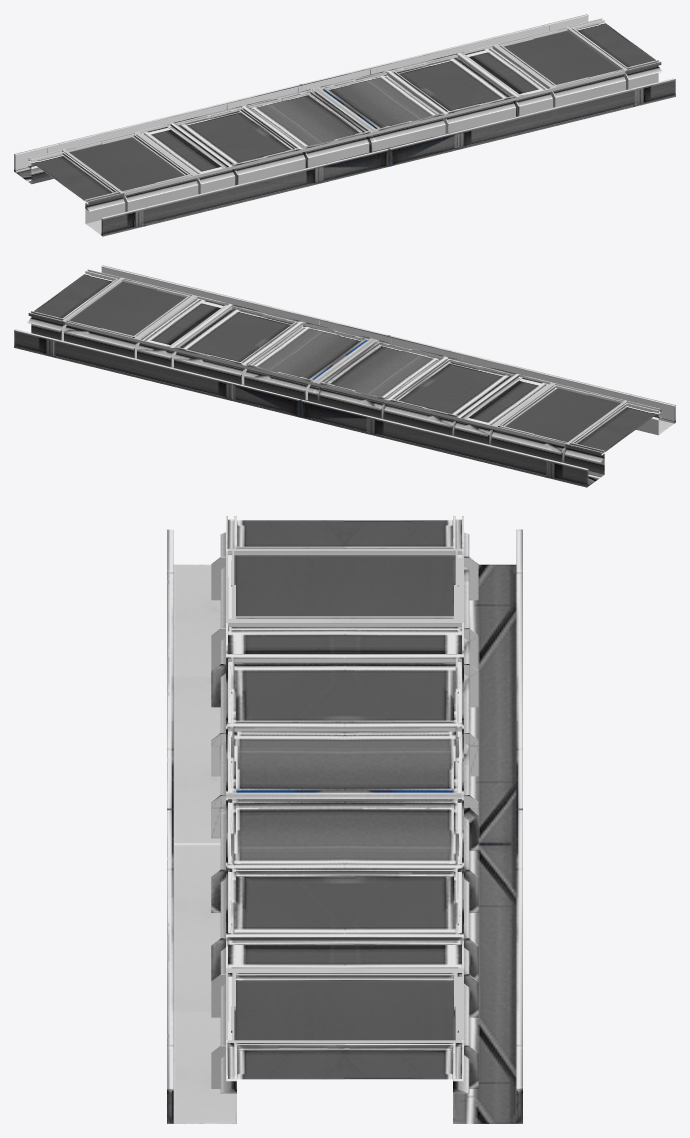
The model's file is set7GTop.obj.
3 views of the same model, one above another, from view 1: azimuth 30°, elevation 25°; view 2: azimuth 150°, elevation 25°; view 3: azimuth 270°, elevation 25° (orthographic). The views are drawn at different scales.
Visible parts, largest first — view 1: Set7Gtop; view 2: Set7Gtop; view 3: Set7Gtop.
Part boxes in pixels (x1,y1,x2,y2): Set7Gtop: [14, 14, 675, 236]; Set7Gtop: [14, 265, 675, 487]; Set7Gtop: [167, 516, 522, 1123].
Size of the model in its own units: 7.2 by 0.2904 by 1.94.
1 material, 1 textured.
